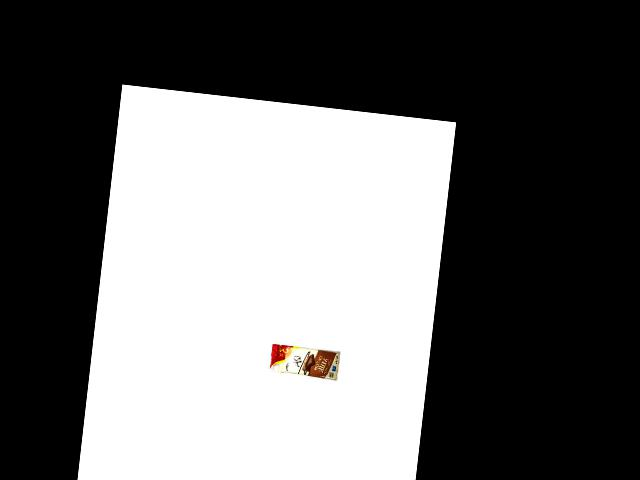chocolate: (267, 341, 339, 381)
